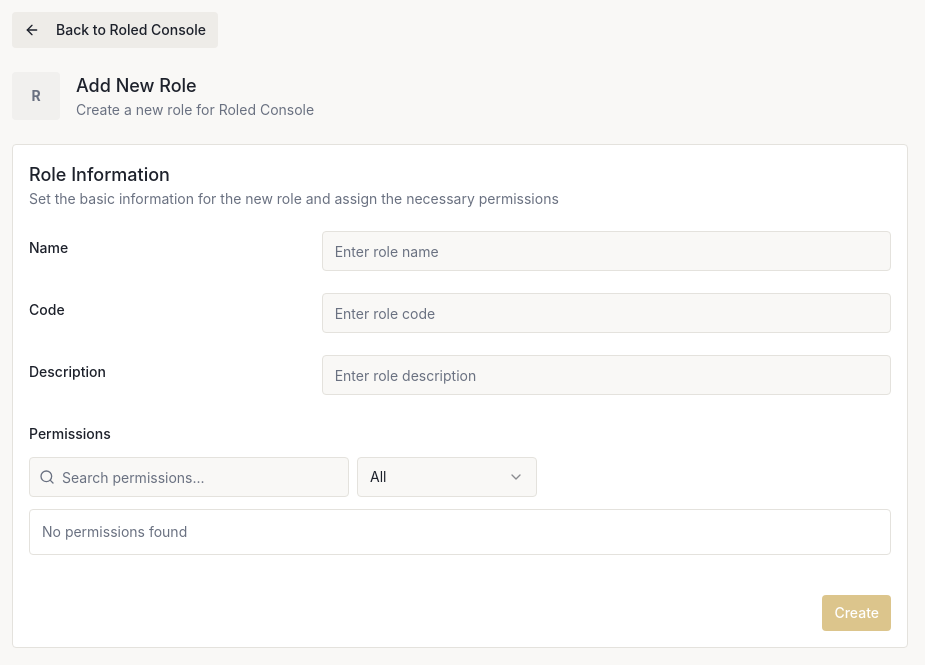
Test case: NewRole Page › enables create button when name is filled
Expected: the heading "Add New Role" is shown, [76, 75, 197, 96]
In the field labelled "Name": (606, 251) [322, 231, 891, 271], type "New Role"
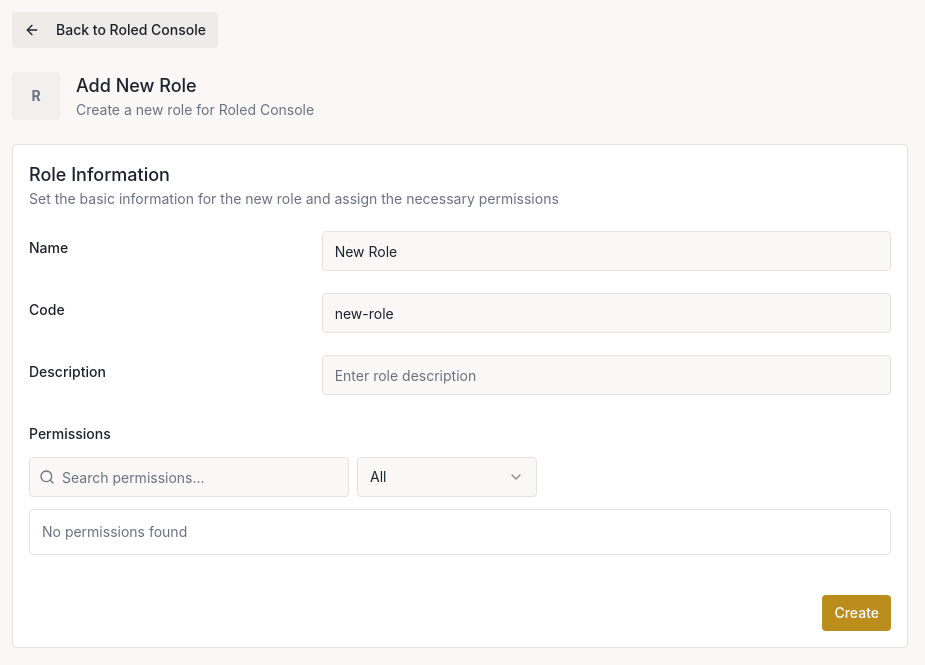
Expected: the button "Create" is enabled, [822, 595, 891, 631]
